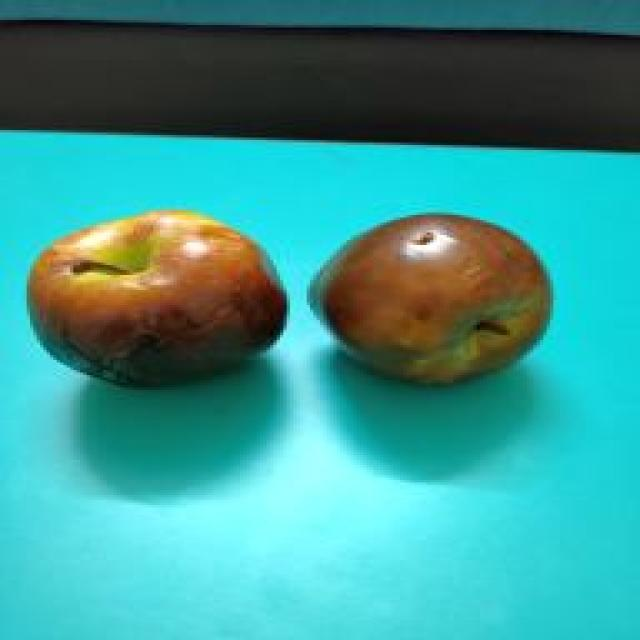Bad_Apple: (28, 210, 285, 384)
